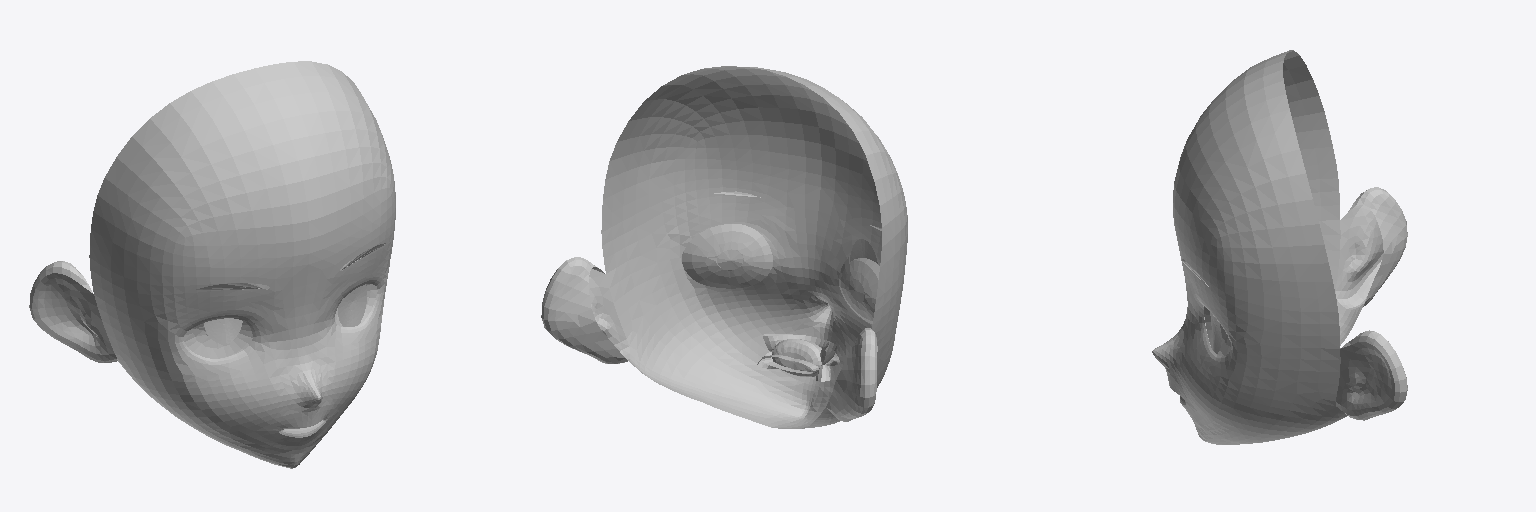
File: eyeLookUpRight.obj
The picture shows the model from 3 angles: view 1: azimuth 30°, elevation 25°; view 2: azimuth 150°, elevation 25°; view 3: azimuth 270°, elevation 25°; orthographic projection.
Visible parts, largest first — view 1: Face; view 2: Face; view 3: Face.
Part boxes in pixels (left/top/right/bottom): Face: left=29, top=61, right=395, bottom=468; Face: left=541, top=66, right=907, bottom=428; Face: left=1152, top=50, right=1407, bottom=444.
Bounding box in the file's own units: 0.2176 × 0.2333 × 0.1449.